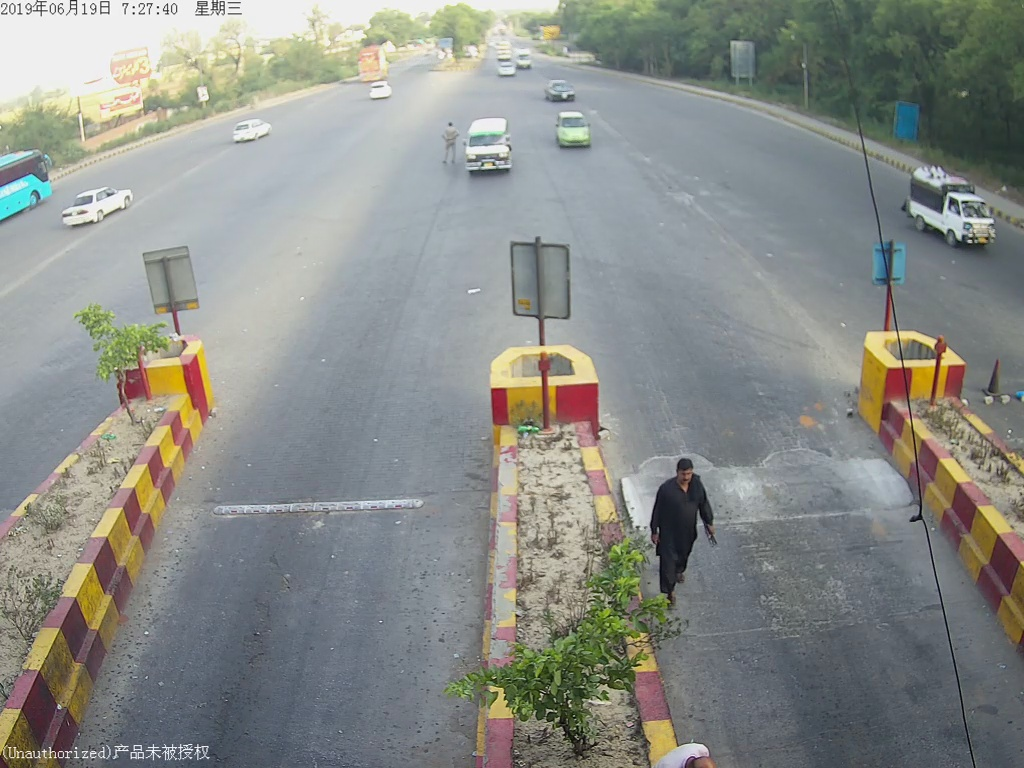Cat-1: (550, 112, 595, 155)
Cat-2: (465, 114, 514, 178)
